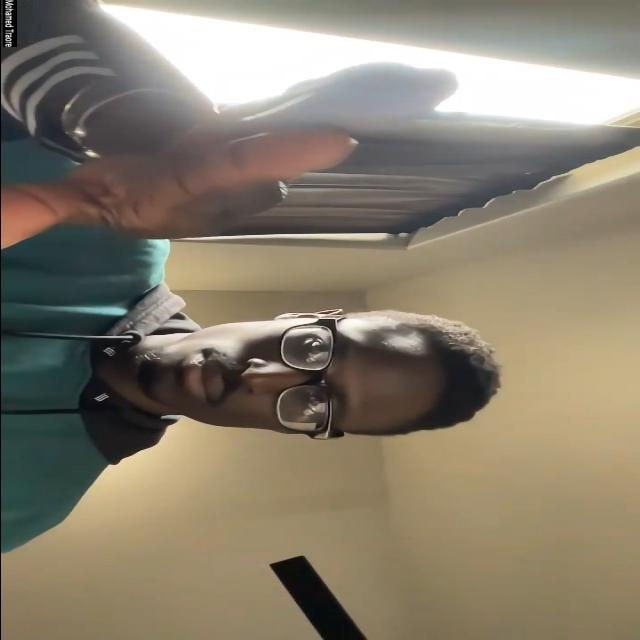Paper: (0, 62, 458, 248)
